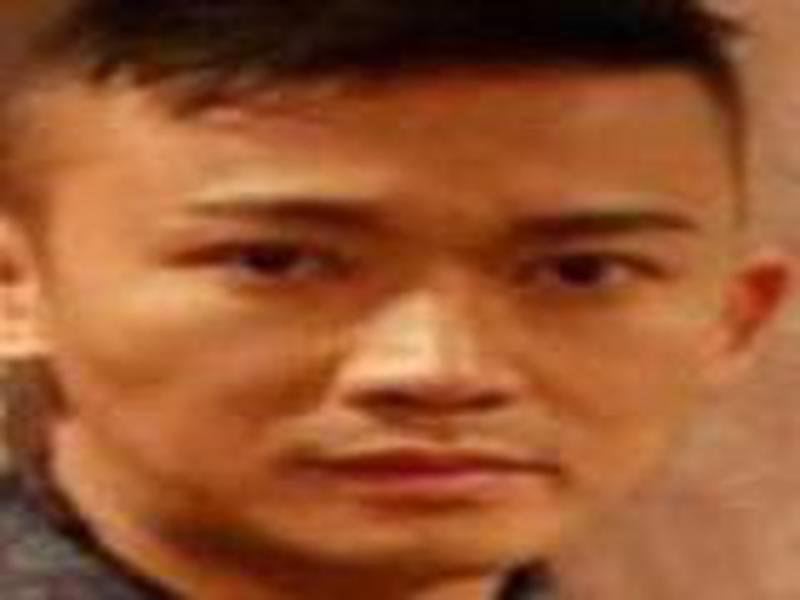without_mask: (27, 65, 729, 578)
